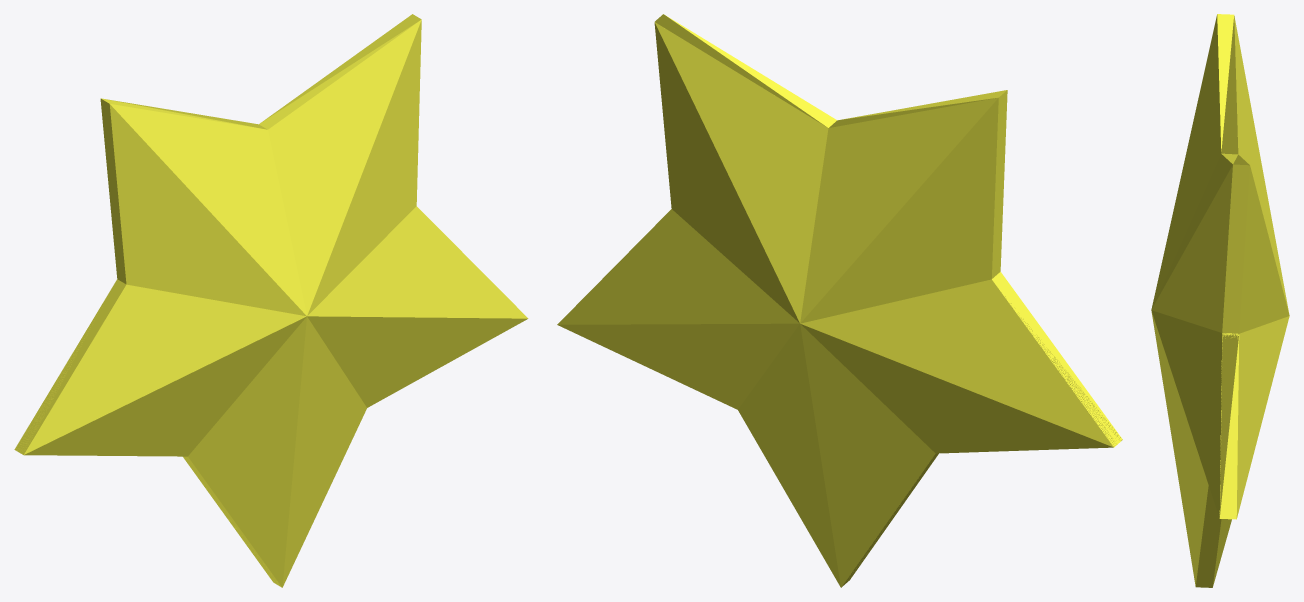
The model's file is star.glb.
The picture shows the model from 3 angles, left to right: view 1: azimuth 30°, elevation 25°; view 2: azimuth 150°, elevation 25°; view 3: azimuth 270°, elevation 25°; orthographic projection. The views are drawn at different scales.
Parts seen in each view (by area): view 1: Circle; view 2: Circle; view 3: Circle.
Boxes of the visible parts, left/top/right/bottom form: Circle: left=14, top=14, right=528, bottom=587; Circle: left=557, top=14, right=1122, bottom=587; Circle: left=1151, top=14, right=1289, bottom=587.
Bounding box in the file's own units: 1.67 × 1.59 × 0.3992.
